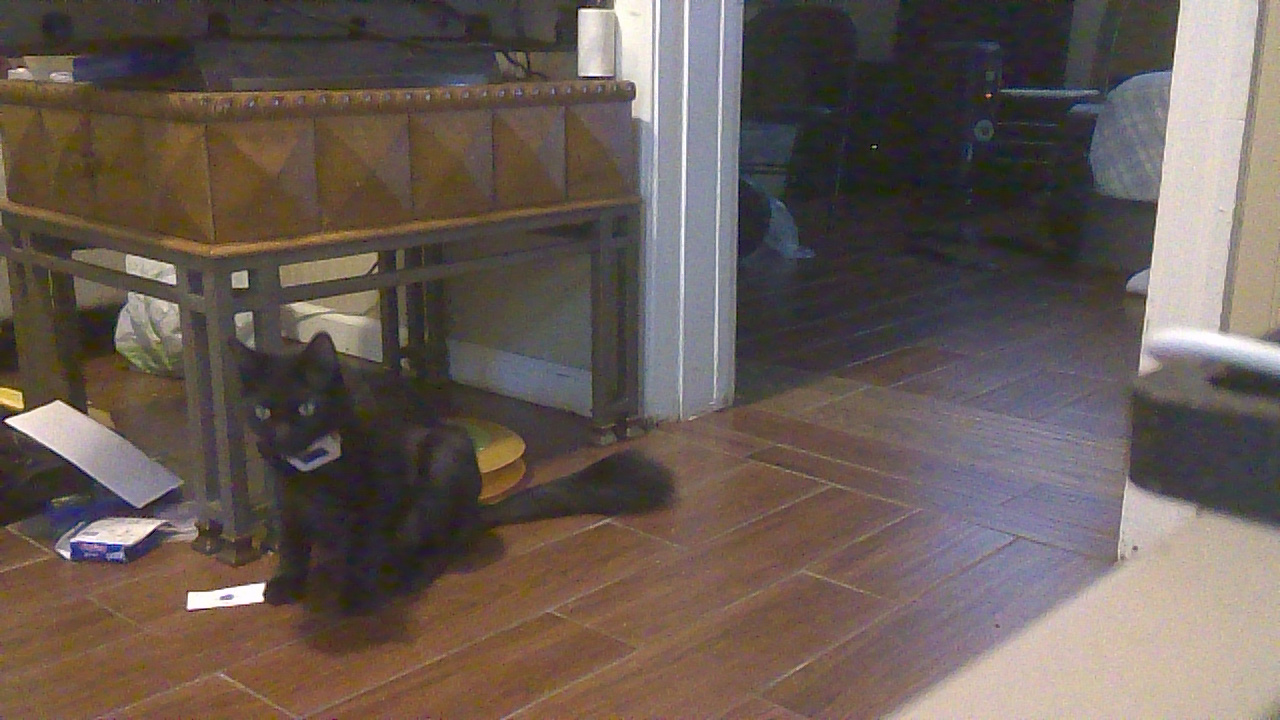cat: (215, 323, 680, 616)
